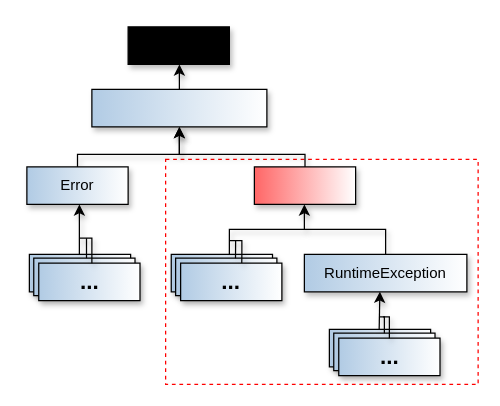
The diagram is 500 pixels wide and 406 high, and some of its shapes have lost their labels. The shapes that lost their labels are listed below. From the top down, each one's centre as x and y in pixels, then its label:
the point at 180,109: java.lang.Throwable
the point at 305,187: Exception
